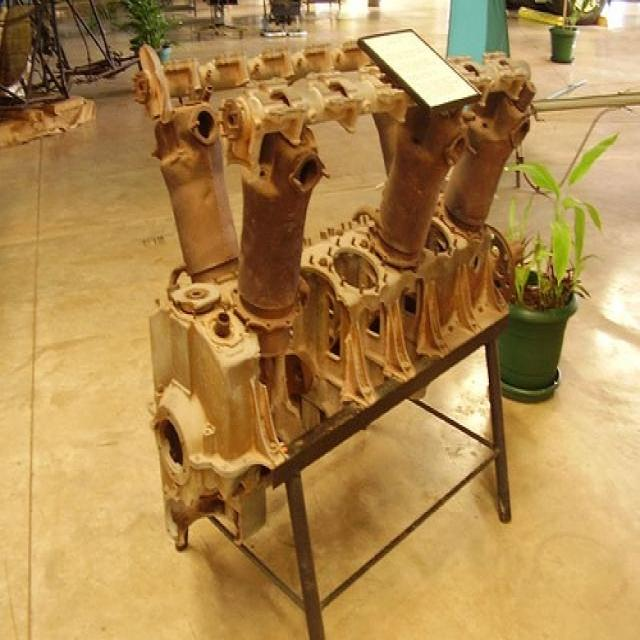pottedplant: (497, 136, 621, 404), (132, 1, 175, 73), (549, 1, 576, 64)
